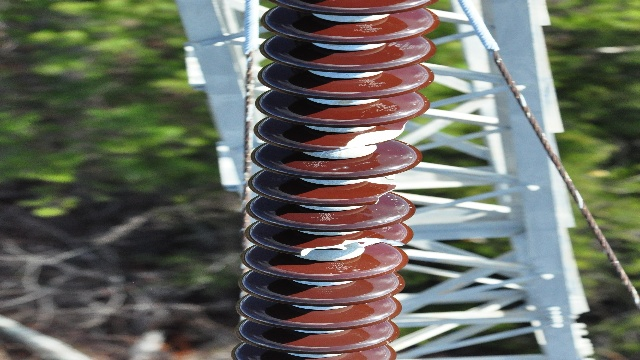broken_local: (292, 235, 409, 257), (334, 120, 410, 152), (366, 175, 404, 205)
insulator_unspecified: (225, 0, 440, 358)
